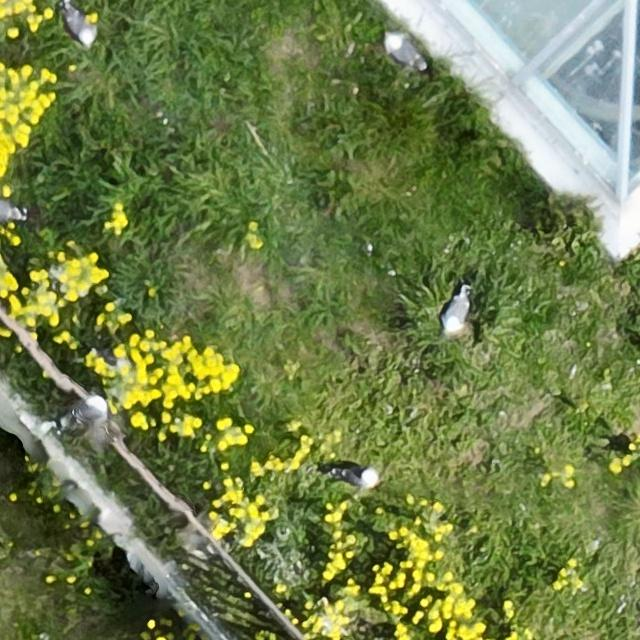umineko: (64, 6, 93, 46), (387, 38, 422, 69), (334, 468, 376, 488), (445, 293, 468, 329), (72, 396, 105, 420), (0, 199, 18, 221)
